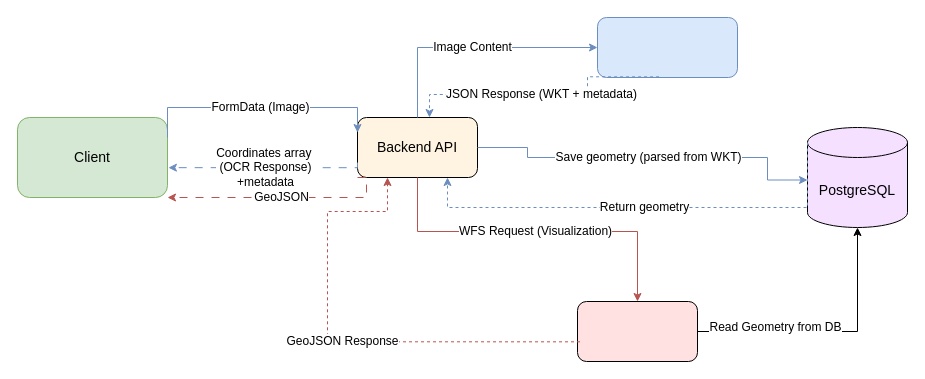
This 925x379 diagram has some shape labels left out. Here are the shapes that lost their labels. From the top down, the centre of each, then its label:
At point 667,47: "LLM Google Gemini".
At point 637,331: "GeoServer".
